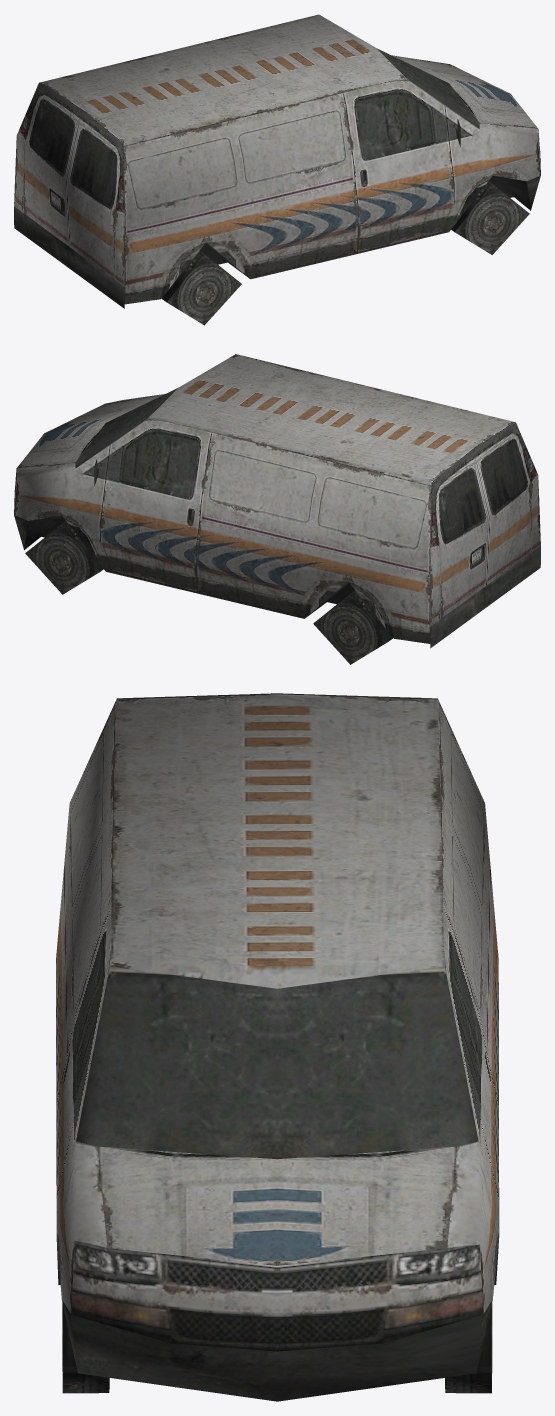
File: Prop_Wj034new_lod2.glb
3 views of the same model, one above another, from view 1: azimuth 30°, elevation 25°; view 2: azimuth 150°, elevation 25°; view 3: azimuth 270°, elevation 25° (orthographic). The views are drawn at different scales.
Visible parts, largest first — view 1: xiutz_wj034new_lod2; view 2: xiutz_wj034new_lod2; view 3: xiutz_wj034new_lod2.
Part boxes in pixels (x1,y1,x2,y2): xiutz_wj034new_lod2: (14,14,540,325); xiutz_wj034new_lod2: (14,354,540,664); xiutz_wj034new_lod2: (56,693,499,1401).
Size of the model in its own units: 7.47 by 3.03 by 3.94.
Materials: 1 (1 with a texture image).
